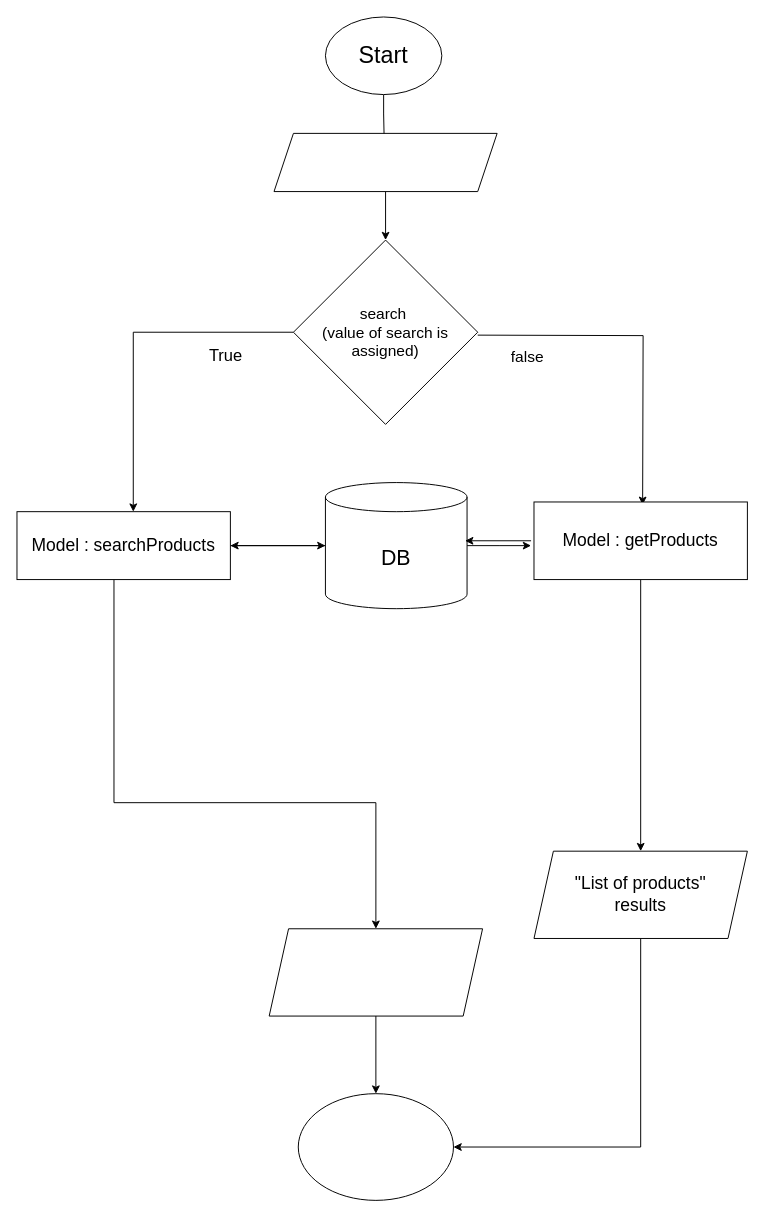
Image size: 764x1217. Some labels were removed from this diagram. Each missing label, with the centre of its shape:
"List of product with key ${search}" results: (x=375, y=972)
End: (x=375, y=1146)
req.query search: (x=385, y=162)
